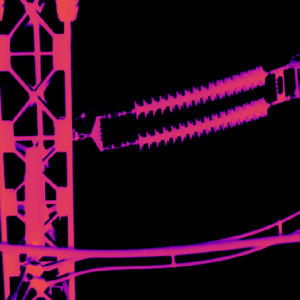insulator: (132, 63, 268, 118), (136, 97, 268, 149)
